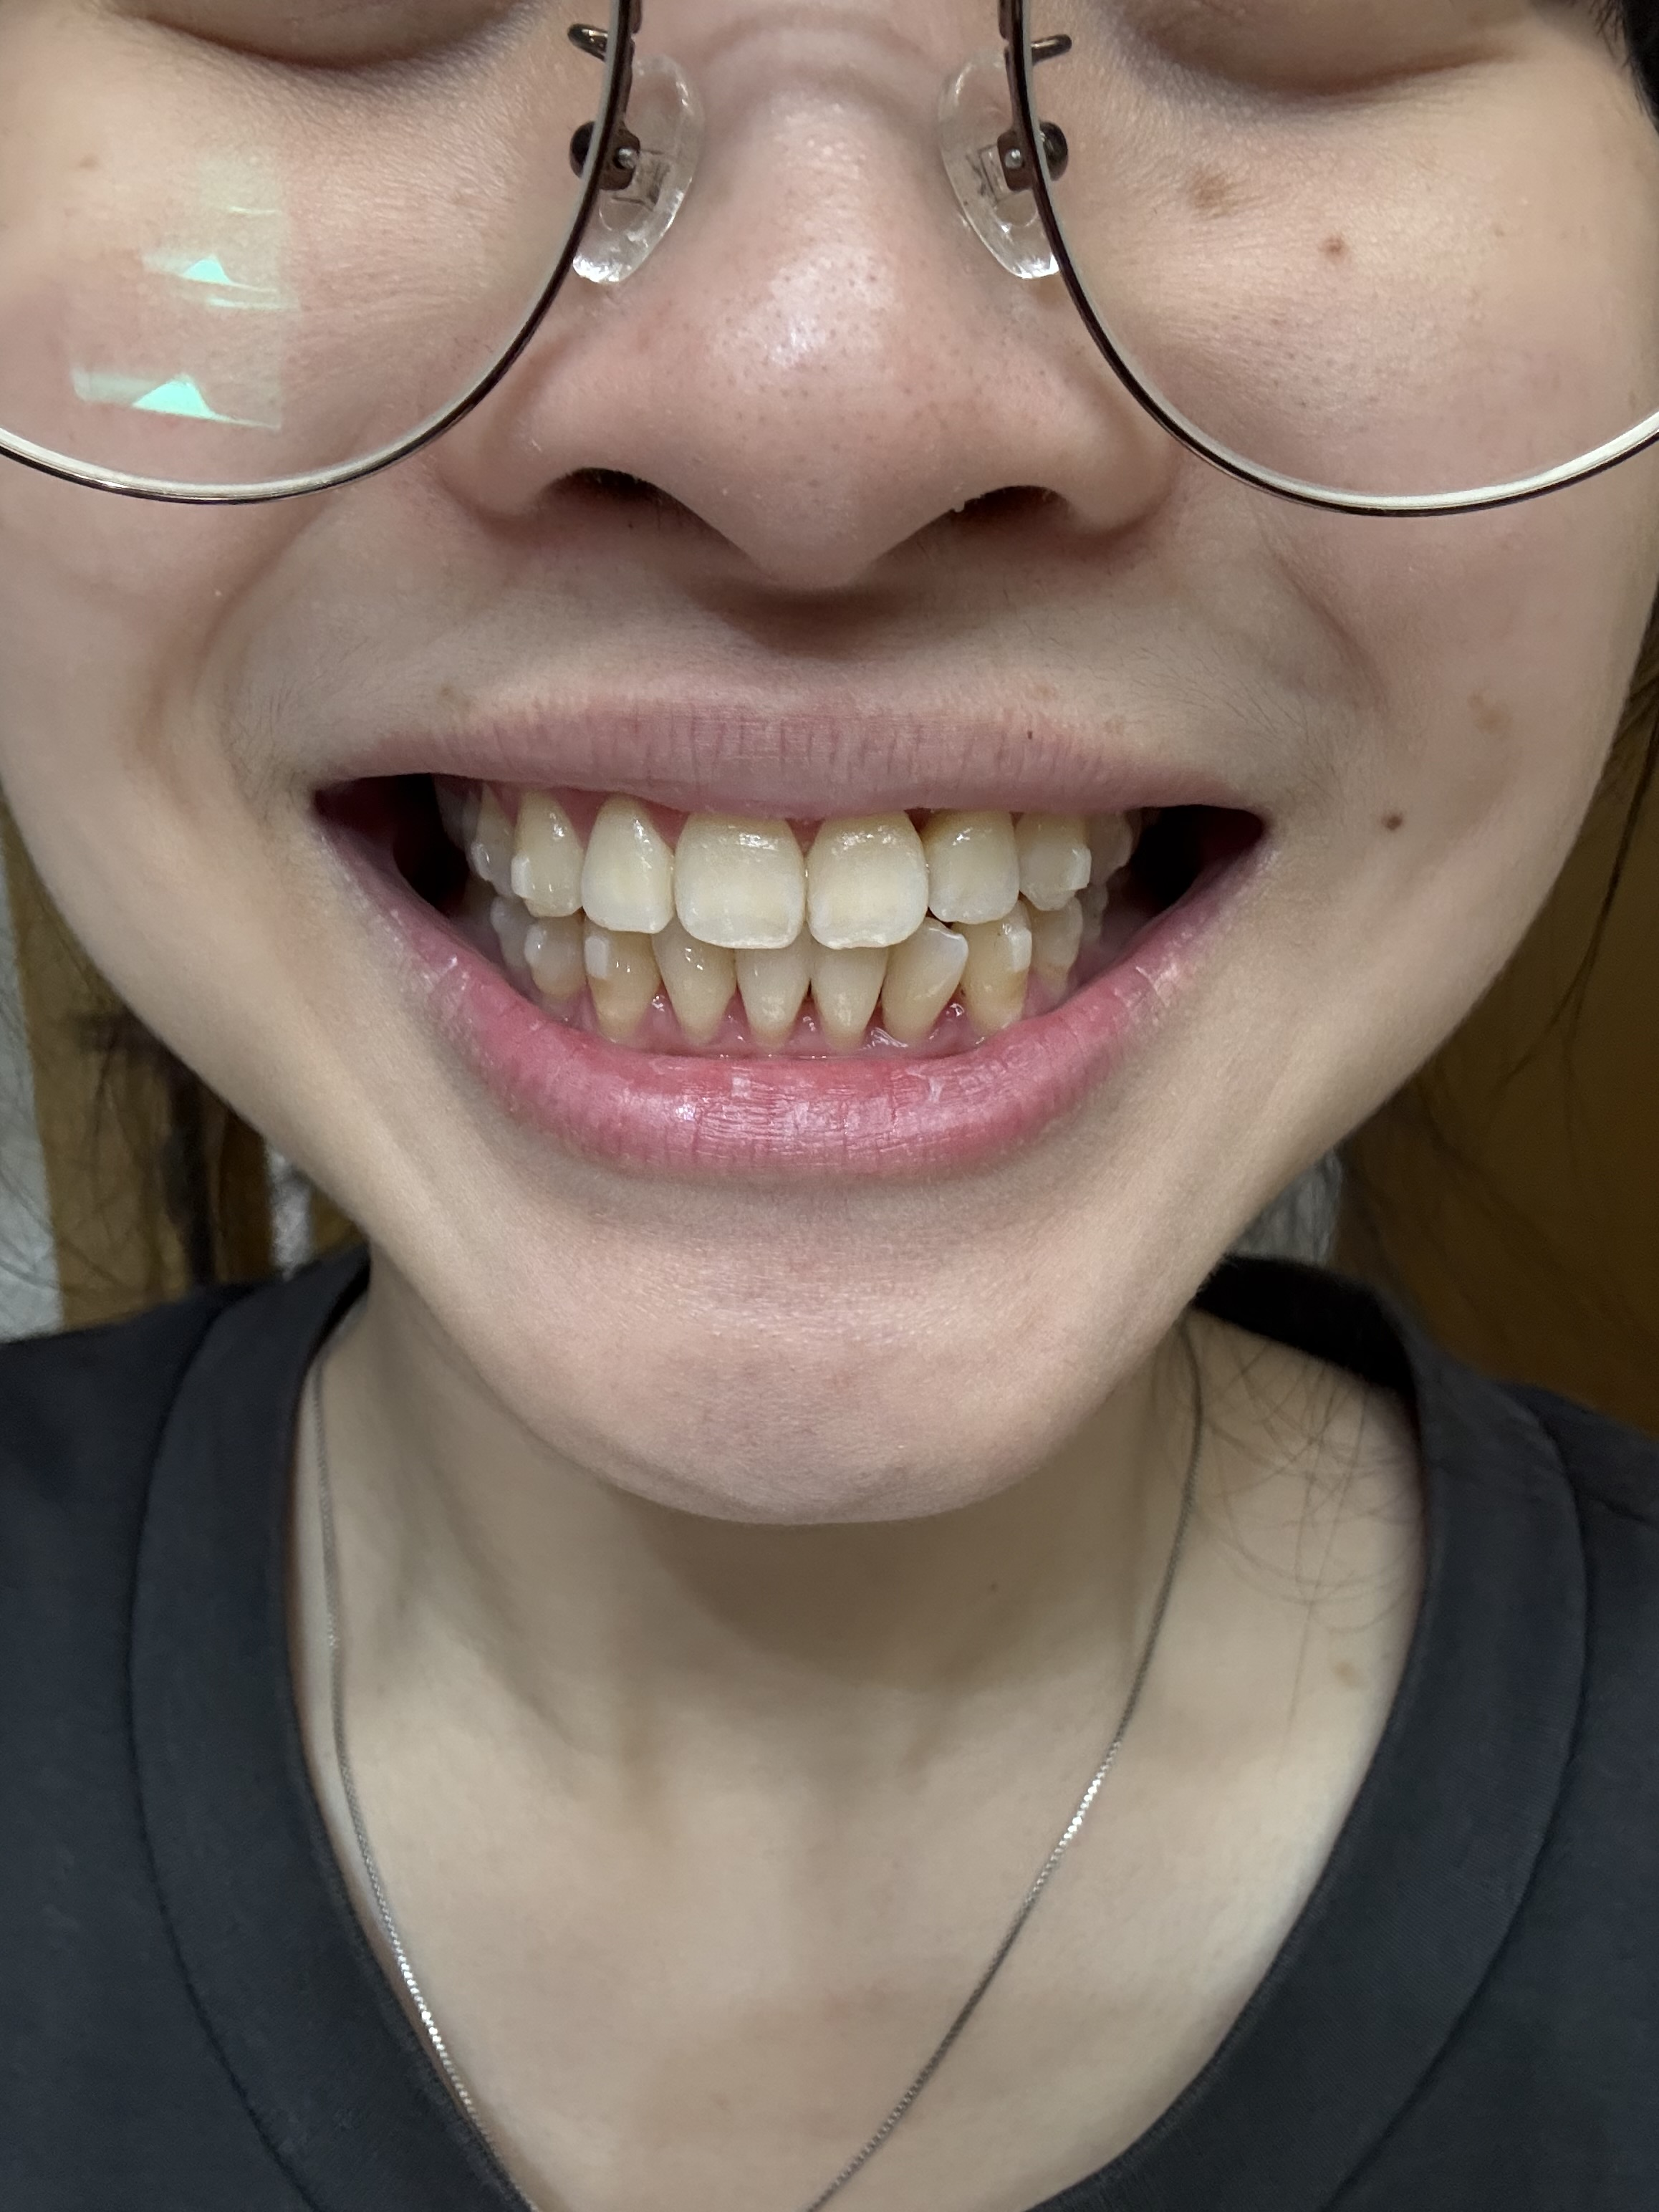teeth: (676, 815, 805, 946), (807, 817, 924, 942), (582, 799, 673, 928), (924, 813, 1018, 914), (582, 920, 657, 1036), (885, 930, 962, 1043), (734, 930, 807, 1049), (964, 899, 1025, 1029), (655, 935, 732, 1038), (516, 791, 582, 907), (812, 948, 884, 1050), (1018, 813, 1084, 911), (474, 786, 519, 897), (528, 920, 584, 1001), (1032, 897, 1077, 991), (486, 902, 526, 970), (1089, 817, 1122, 885)
